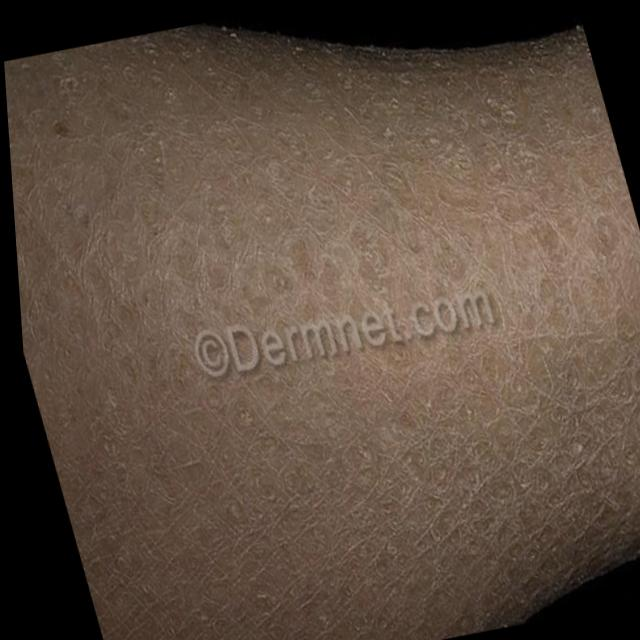liquenificacion 1: (4, 13, 640, 640)
